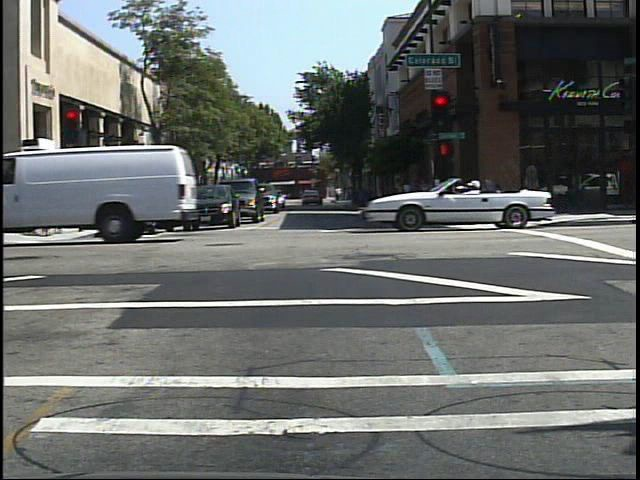person: (93, 180, 112, 228)
